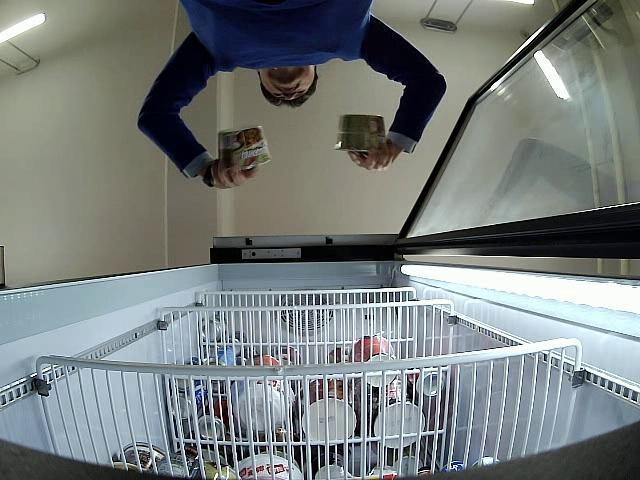03_chapagetti_L: (218, 126, 272, 170), (334, 114, 388, 151)
